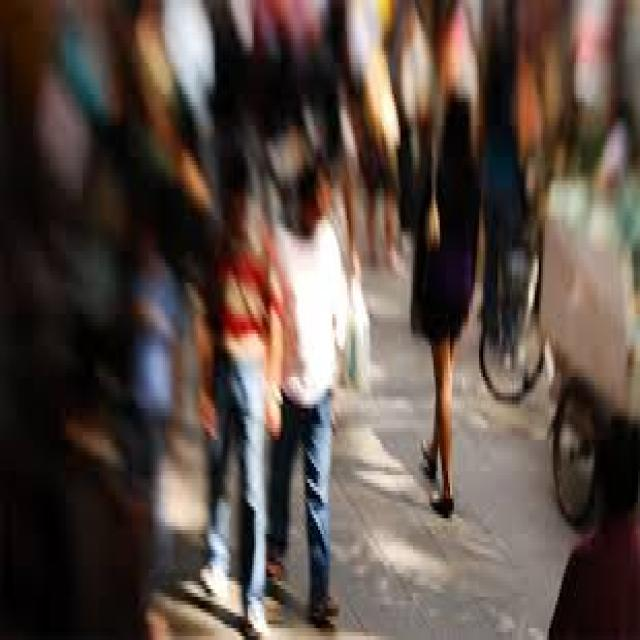Pedestrians: (194, 161, 283, 636), (403, 59, 487, 526), (275, 161, 353, 624)
